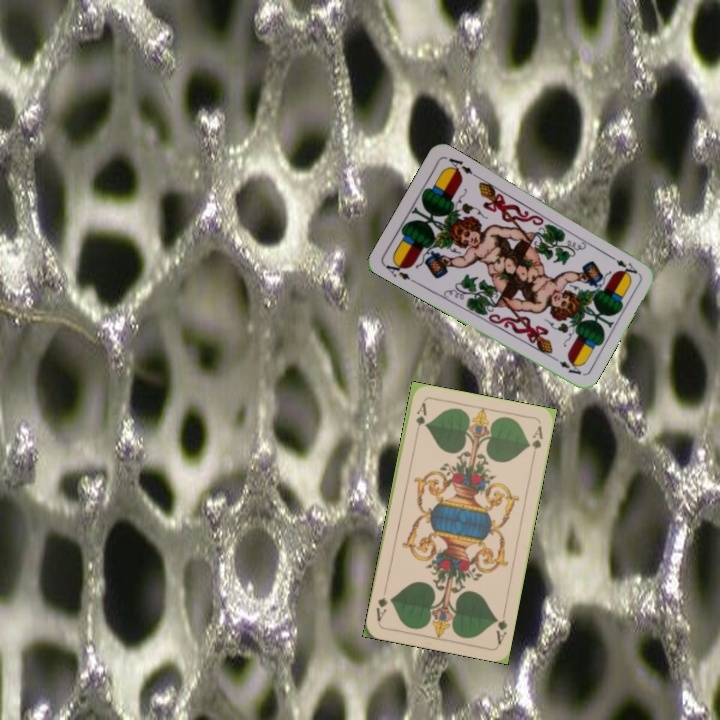EA: (380, 256, 418, 286), (604, 250, 640, 276)
GA: (411, 399, 429, 438), (491, 613, 510, 646)
